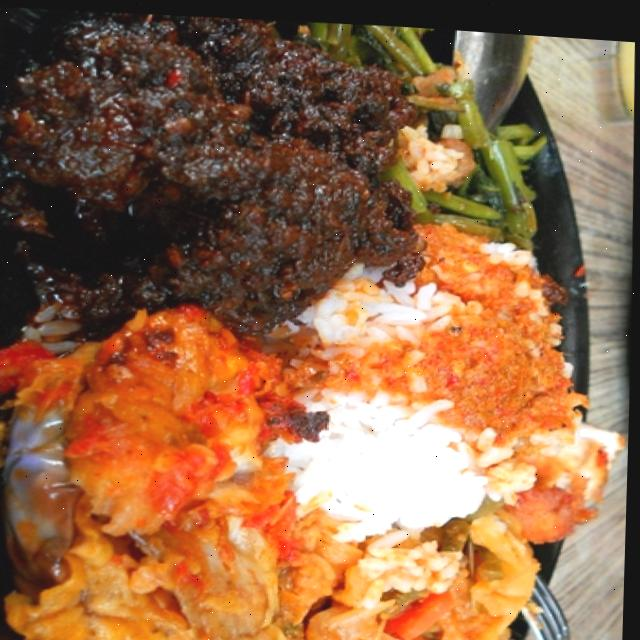米饭主食: (0, 14, 640, 640)
